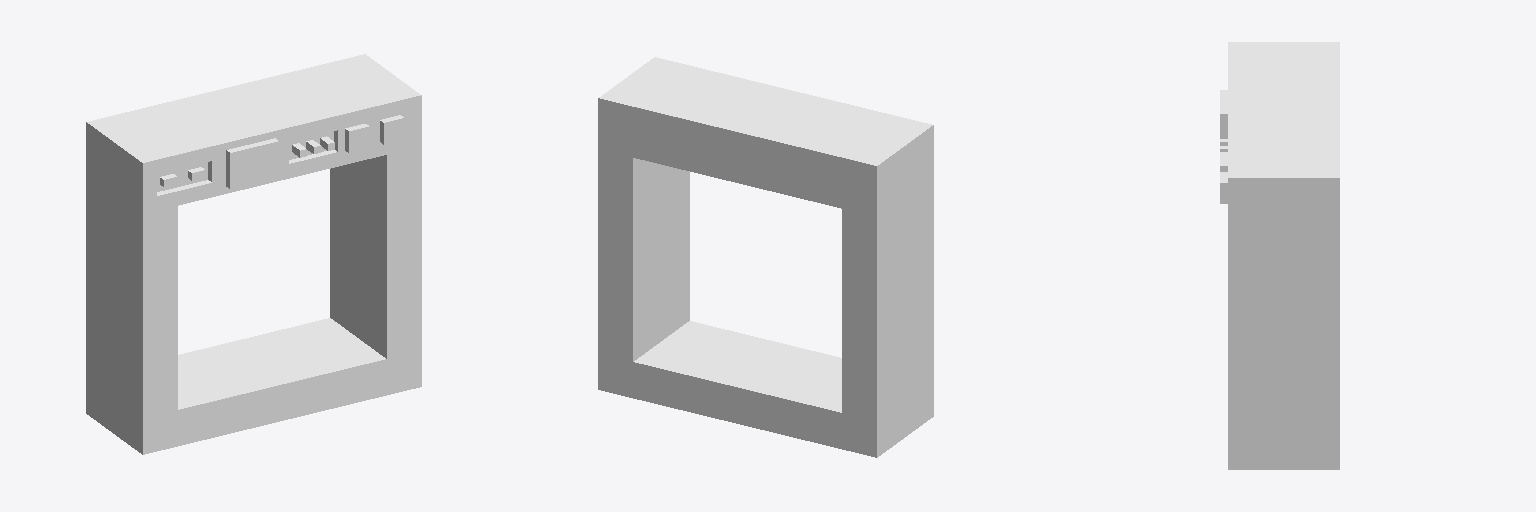
File: TrashFactory-1.obj
The picture shows the model from 3 angles: view 1: azimuth 30°, elevation 25°; view 2: azimuth 150°, elevation 25°; view 3: azimuth 270°, elevation 25°; orthographic projection.
Visible parts, largest first — view 1: object 1; view 2: object 1; view 3: object 1.
Part boxes in pixels (bbox=[...]): object 1: bbox=[86, 54, 421, 454]; object 1: bbox=[598, 57, 933, 457]; object 1: bbox=[1220, 42, 1339, 469].
Size of the model in its own units: 4 by 4 by 1.5.